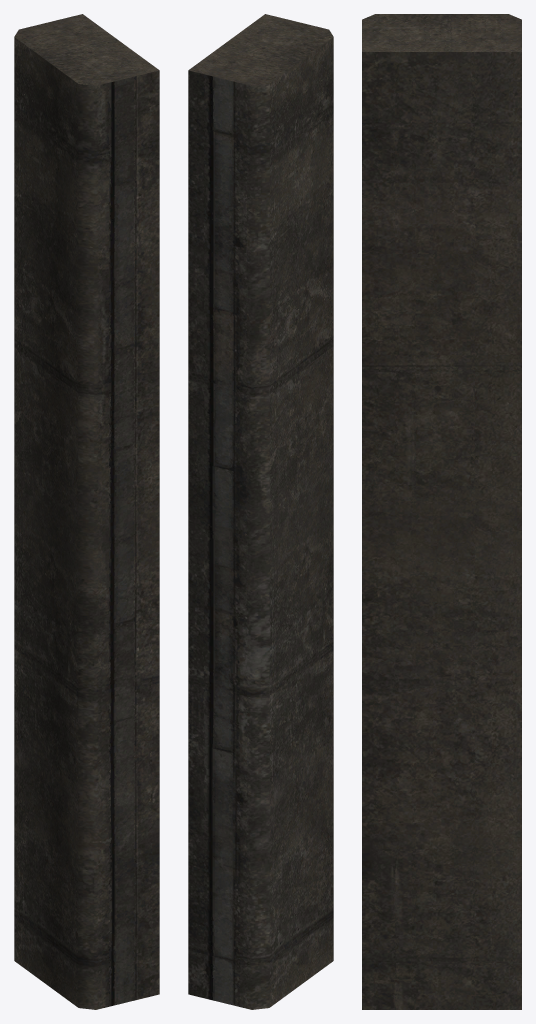
The model's file is tunnel_pillars_single_cap.DAE.
The picture shows the model from 3 angles, left to right: view 1: azimuth 30°, elevation 25°; view 2: azimuth 150°, elevation 25°; view 3: azimuth 270°, elevation 25°; orthographic projection. The views are drawn at different scales.
Parts seen in each view (by area): view 1: tunnel_pillars_single_cap; view 2: tunnel_pillars_single_cap; view 3: tunnel_pillars_single_cap.
Part boxes in pixels (<box>): tunnel_pillars_single_cap: <box>14,14,159,1009</box>; tunnel_pillars_single_cap: <box>188,14,333,1009</box>; tunnel_pillars_single_cap: <box>362,14,521,1009</box>.
Size of the model in its own units: 0.3392 by 0.605 by 4.
